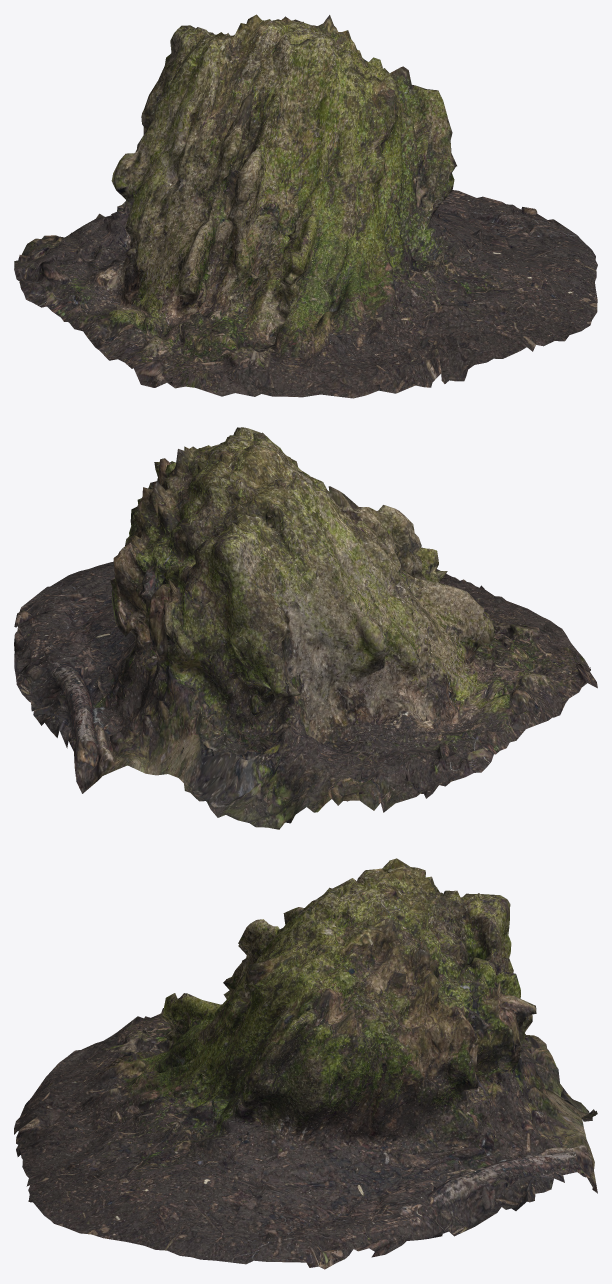
Rendered from PX_Stump_11_LOD2.fbx.
The picture shows the model from 3 angles, top to bottom: view 1: azimuth 30°, elevation 25°; view 2: azimuth 150°, elevation 25°; view 3: azimuth 270°, elevation 25°; orthographic projection. The views are drawn at different scales.
Parts seen in each view (by area): view 1: PX_Stump_11_LOD2; view 2: PX_Stump_11_LOD2; view 3: PX_Stump_11_LOD2.
Part boxes in pixels (box(x1,y1,x2,y2)): PX_Stump_11_LOD2: box(14, 14, 597, 398); PX_Stump_11_LOD2: box(14, 427, 597, 829); PX_Stump_11_LOD2: box(14, 858, 597, 1269).
Size of the model in its own units: 55.31 by 29.54 by 53.34.
